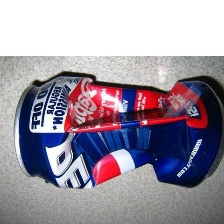can: (12, 71, 224, 189)
